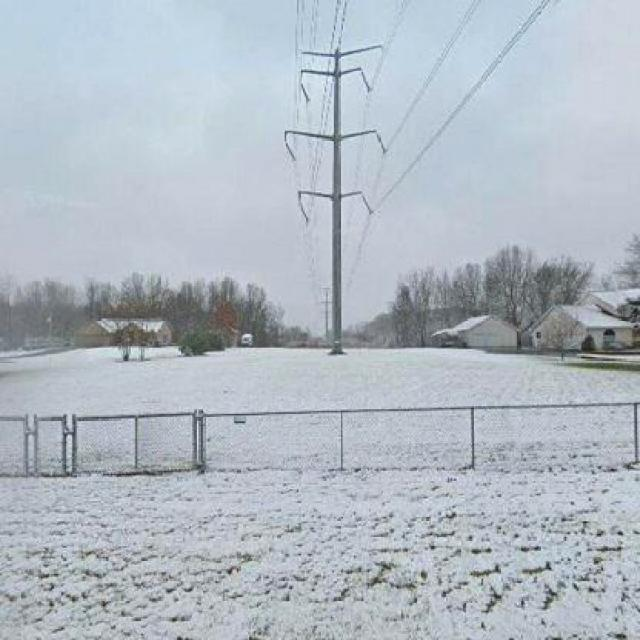crossarm: (283, 128, 387, 160), (298, 65, 372, 101), (297, 189, 372, 220), (304, 45, 382, 58)
pole: (332, 49, 346, 355)
wire: (346, 1, 549, 298), (434, 1, 544, 136), (387, 0, 479, 151), (312, 1, 347, 194), (318, 1, 340, 159)
